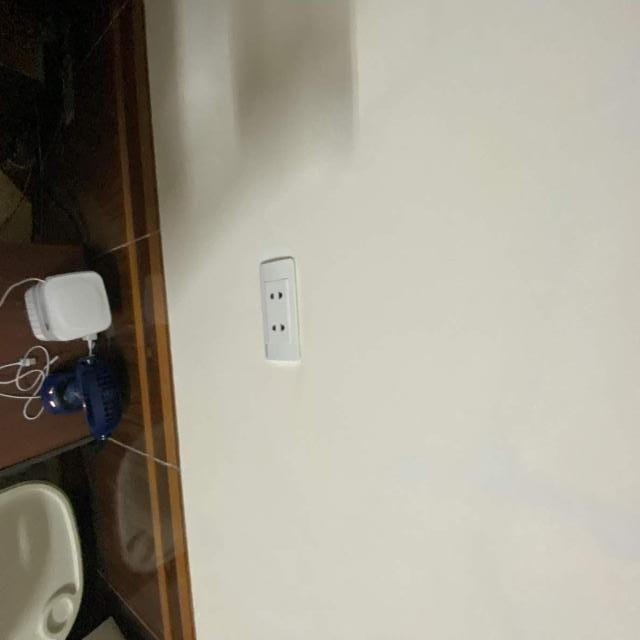outlet: (260, 256, 302, 362)
